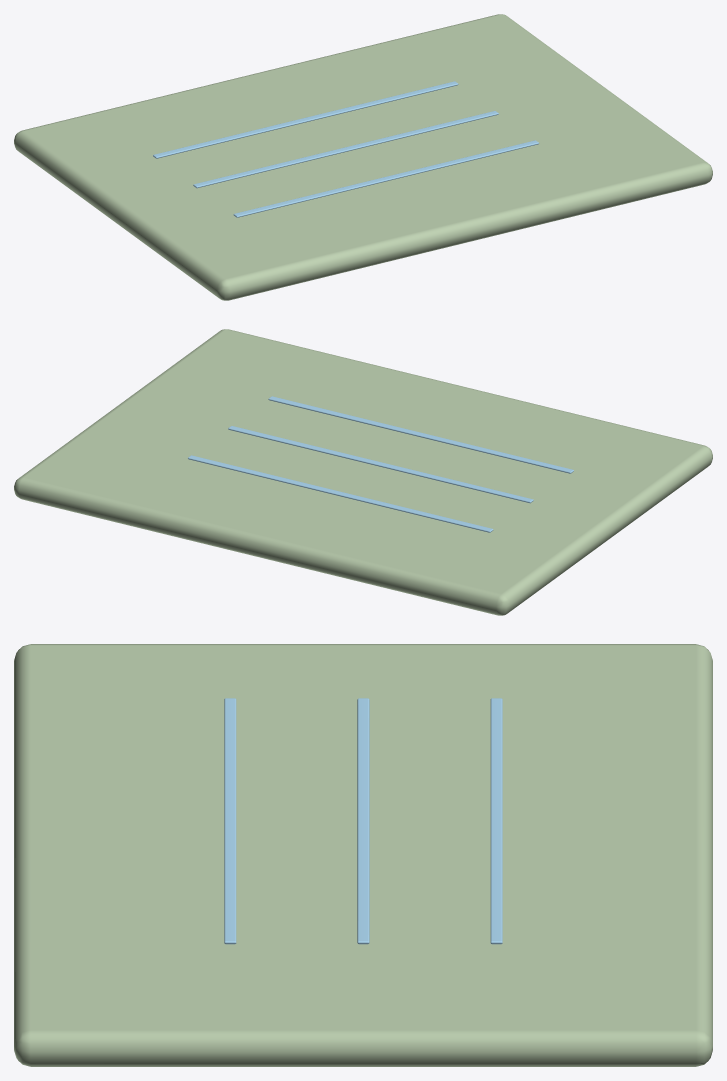
Rendered from officeStickyNote2.glb.
3 renders of one model, top to bottom at view 1: azimuth 30°, elevation 25°; view 2: azimuth 150°, elevation 25°; view 3: azimuth 270°, elevation 25°, orthographic. The views are drawn at different scales.
Parts seen in each view (by area): view 1: Paper, Printed line.001, Printed line, Printed line.002; view 2: Paper, Printed line.001, Printed line.002, Printed line; view 3: Paper, Printed line, Printed line.002, Printed line.001.
Part boxes in pixels (box(x1,y1,x2,y2)): Paper: box(14, 14, 712, 300); Printed line.001: box(193, 111, 498, 188); Printed line: box(233, 140, 538, 217); Printed line.002: box(153, 81, 458, 158); Paper: box(14, 329, 712, 615); Printed line.001: box(228, 426, 533, 503); Printed line.002: box(188, 455, 493, 532); Printed line: box(268, 396, 573, 473); Paper: box(14, 644, 712, 1066); Printed line: box(224, 698, 236, 944); Printed line.002: box(490, 698, 502, 944); Printed line.001: box(357, 698, 369, 944).
Size of the model in its own units: 0.85 by 0.039 by 0.63.
